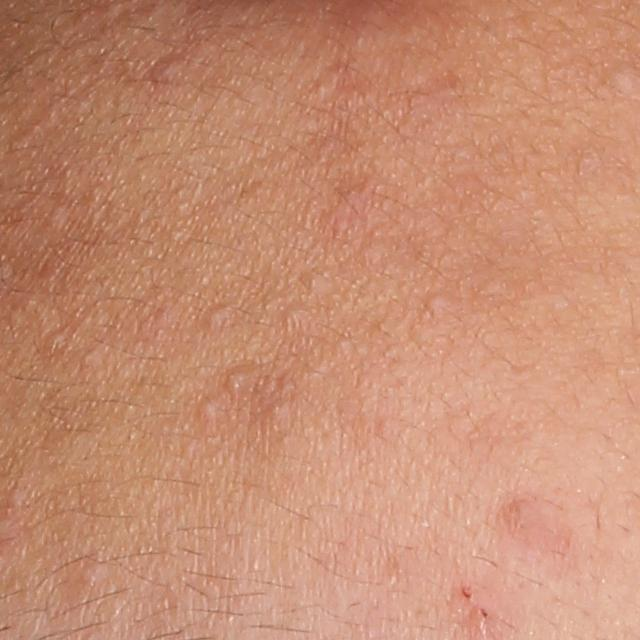comedo: (196, 394, 229, 430), (219, 370, 252, 397), (203, 304, 234, 332), (262, 399, 294, 426), (277, 304, 312, 328), (78, 562, 110, 587), (42, 328, 65, 353), (425, 293, 451, 313)
